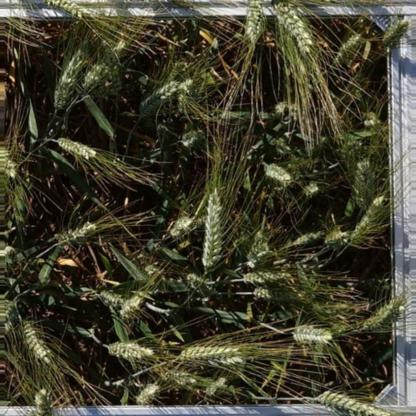whd: (4, 300, 54, 346), (317, 387, 394, 416), (276, 0, 316, 55), (82, 43, 124, 92), (54, 50, 85, 110), (202, 188, 223, 272), (350, 196, 385, 242), (140, 80, 180, 118), (361, 297, 402, 334), (4, 144, 44, 177), (177, 345, 245, 364), (22, 322, 50, 364), (43, 0, 95, 21), (243, 1, 266, 45), (94, 62, 124, 94), (108, 341, 155, 361), (354, 161, 373, 209), (158, 368, 199, 390), (57, 138, 98, 158), (58, 223, 96, 244), (263, 161, 293, 186), (294, 324, 332, 342), (248, 231, 270, 262), (166, 216, 196, 237), (382, 20, 407, 45), (334, 36, 358, 62), (186, 272, 212, 296), (119, 296, 145, 320), (242, 272, 292, 284), (336, 137, 361, 161), (291, 230, 324, 248), (33, 388, 54, 416), (134, 382, 160, 404), (324, 228, 349, 249), (271, 137, 294, 158), (142, 260, 164, 280), (180, 76, 198, 100), (98, 290, 122, 306), (204, 376, 224, 395), (180, 130, 200, 146), (172, 0, 201, 11), (4, 247, 21, 265), (250, 288, 274, 300), (169, 61, 185, 79), (363, 112, 379, 128), (274, 100, 289, 116), (302, 182, 321, 194), (342, 199, 354, 217)
